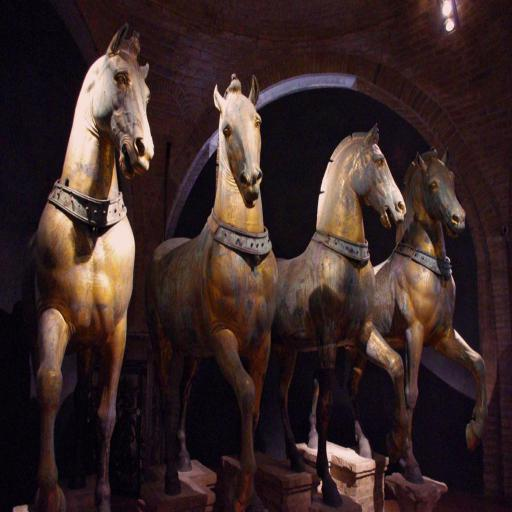horse: (306, 146, 488, 486), (29, 20, 153, 512), (146, 72, 282, 512), (270, 121, 408, 509)
